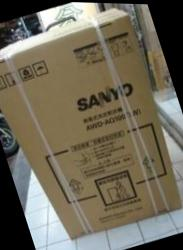cardboard: (0, 1, 182, 249)
